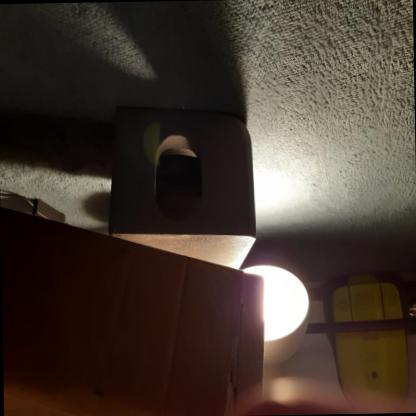CornerCasting: (102, 100, 264, 278)
